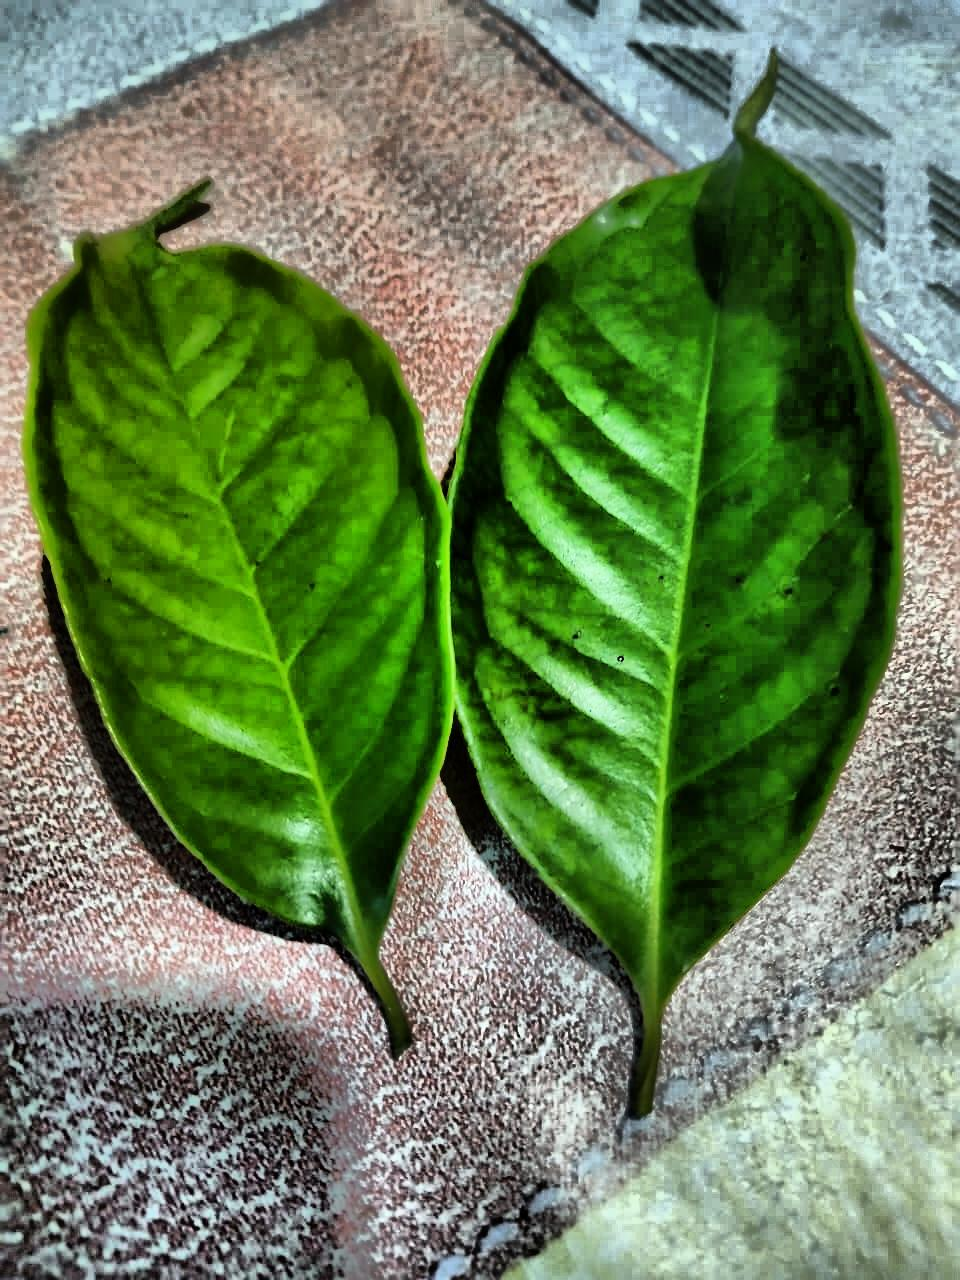daun salam: (23, 55, 899, 1109)
